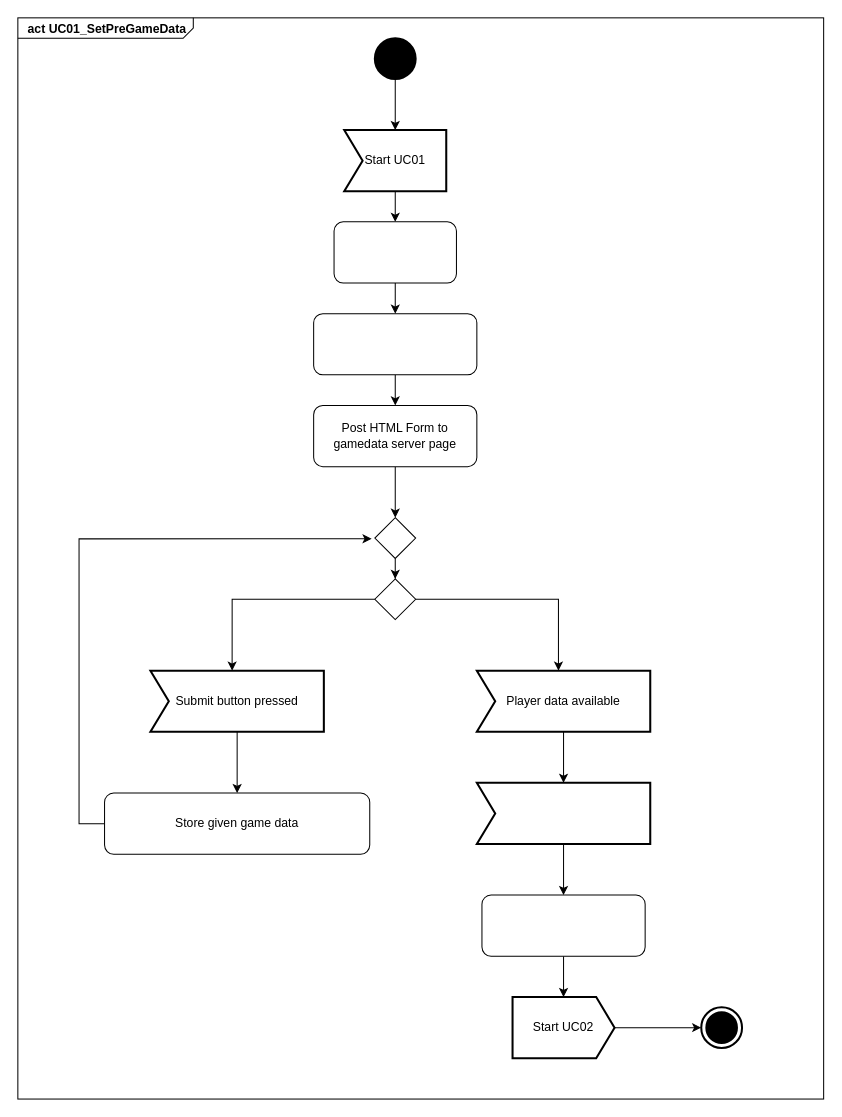
This 842x1117 diagram has some shape labels left out. Here are the shapes that lost their labels. From the top down, the box of each, then its label:
(333, 221, 456, 283): Create SoftAP
(313, 313, 477, 375): Start HTTP server
(475, 781, 651, 845): All players ready
(481, 894, 645, 956): Post game start data to game start server page
